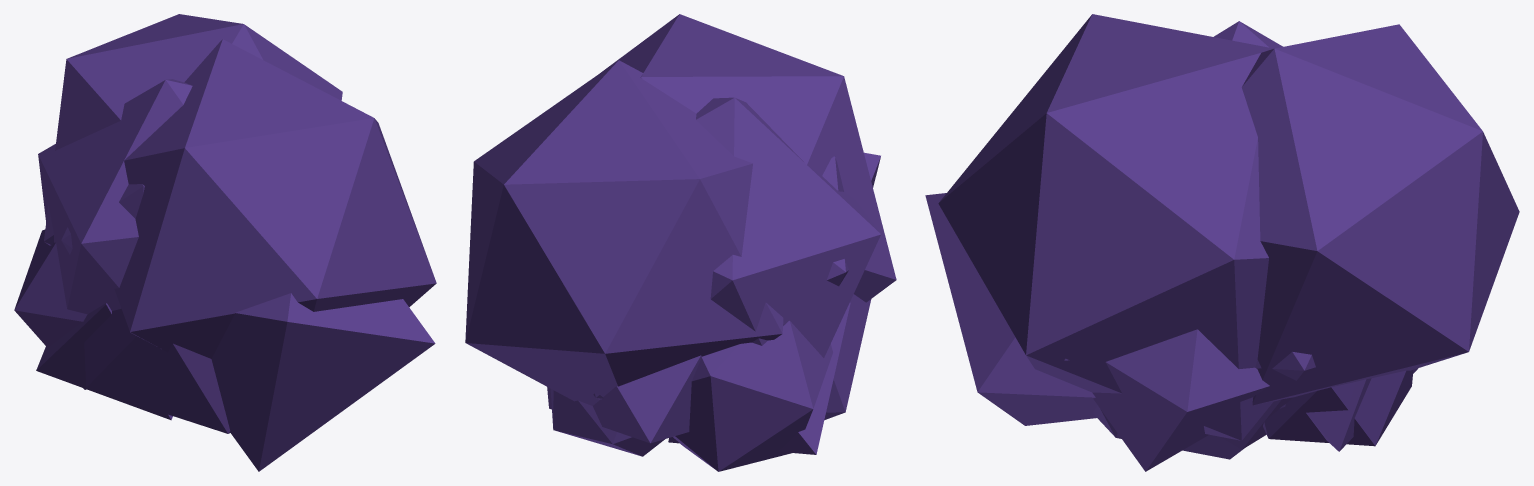
The model's file is deco-crystal.glb.
3 renders of one model, left to right at view 1: azimuth 30°, elevation 25°; view 2: azimuth 150°, elevation 25°; view 3: azimuth 270°, elevation 25°, orthographic. The views are drawn at different scales.
Size of the model in its own units: 1.29 by 1.32 by 1.58.
